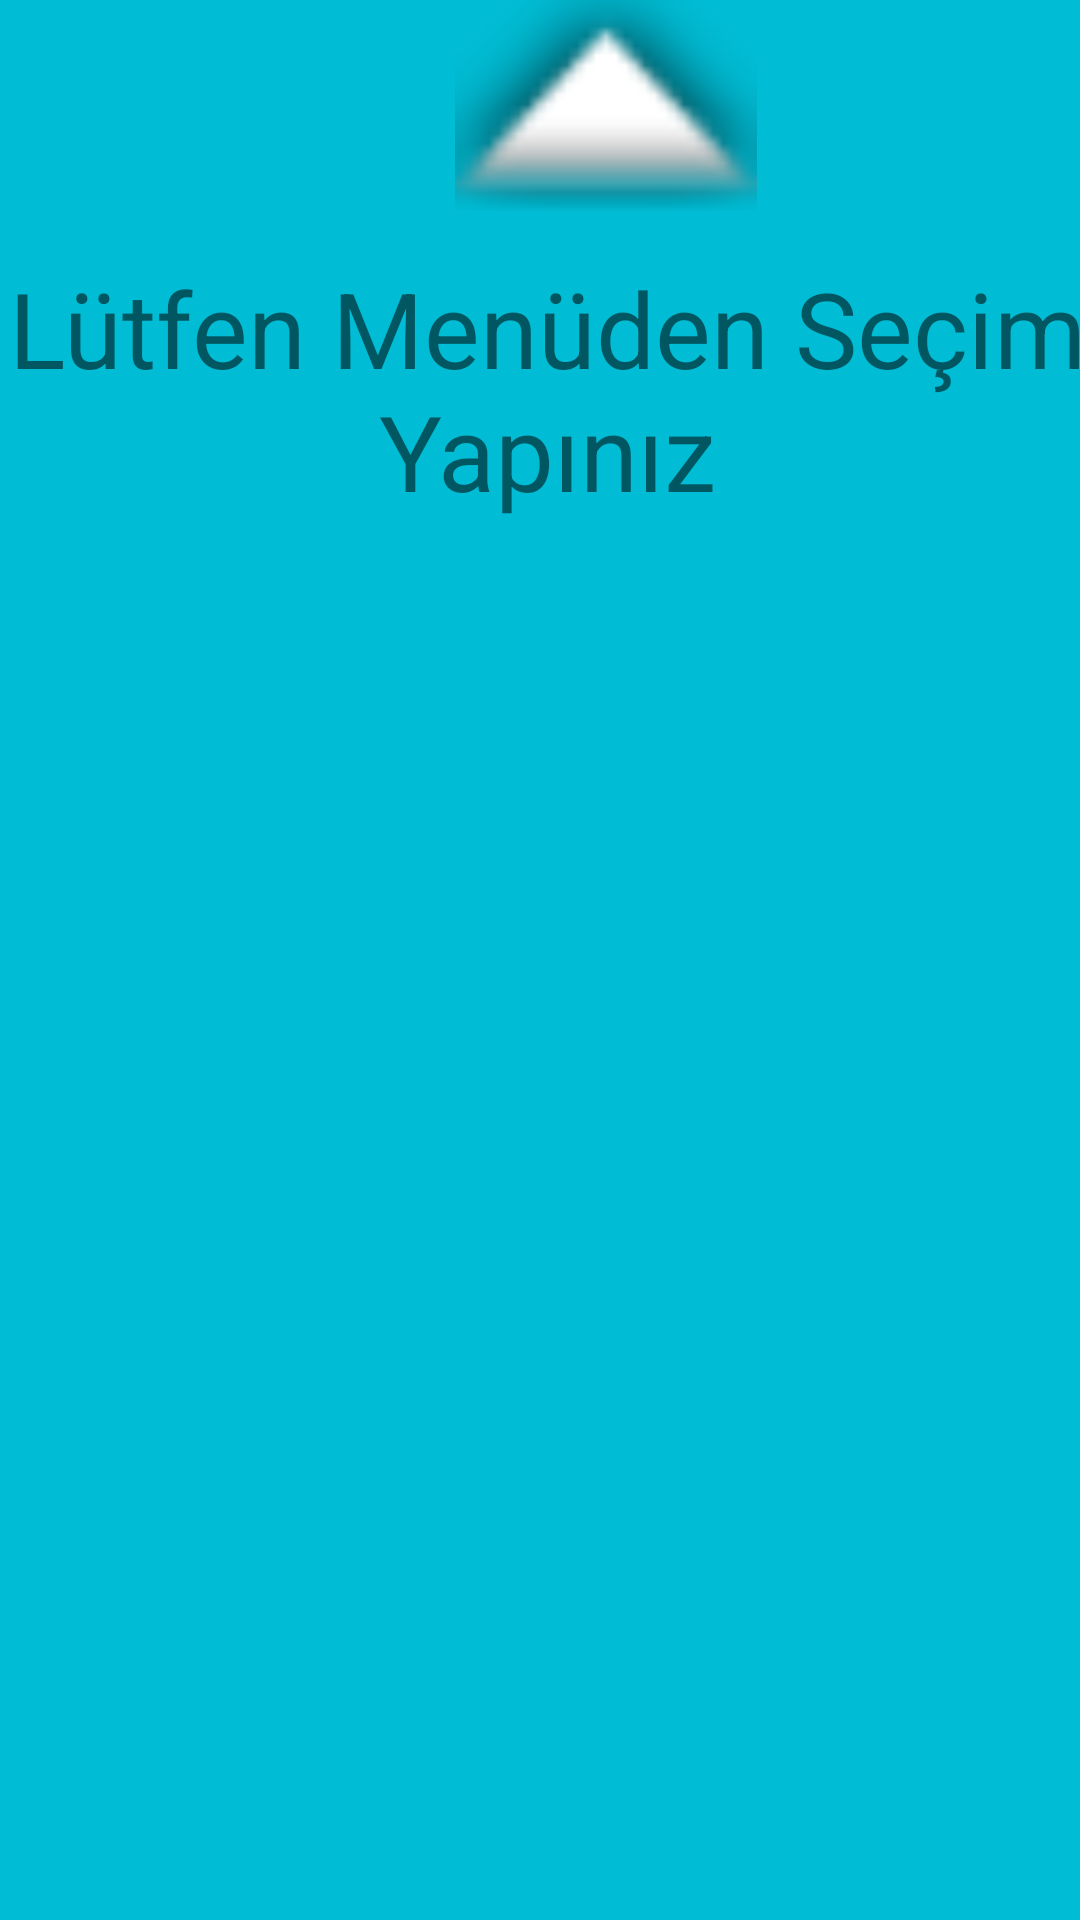

Screen size 1080w x 1920h. Icon name, then its box in pixels as bbox(x1, y1, x2, y2):
arrow up float: bbox(455, 3, 757, 203)
